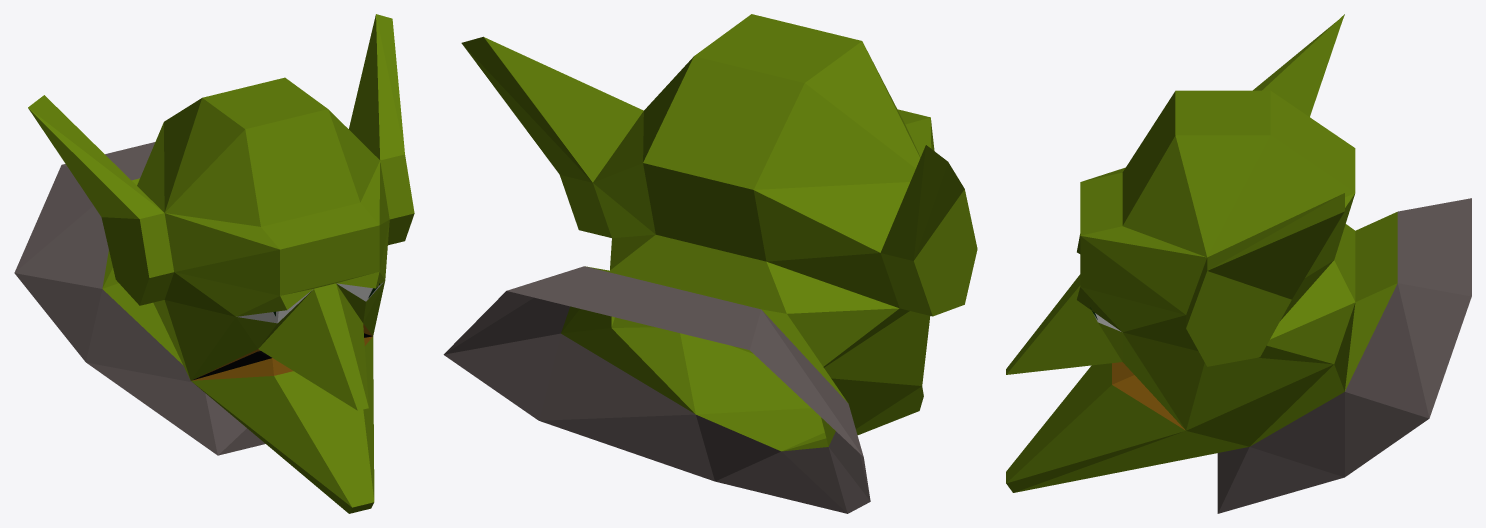
The model's file is model_142_npc_head.obj.
The picture shows the model from 3 angles, left to right: view 1: azimuth 30°, elevation 25°; view 2: azimuth 150°, elevation 25°; view 3: azimuth 270°, elevation 25°; orthographic projection. The views are drawn at different scales.
Visible parts, largest first — view 1: 142; view 2: 142; view 3: 142.
Boxes of the visible parts, bbox=[...] form: 142: bbox=[14, 14, 414, 513]; 142: bbox=[443, 14, 977, 513]; 142: bbox=[1006, 14, 1471, 513].
Bounding box in the file's own units: 132 × 120 × 132.
